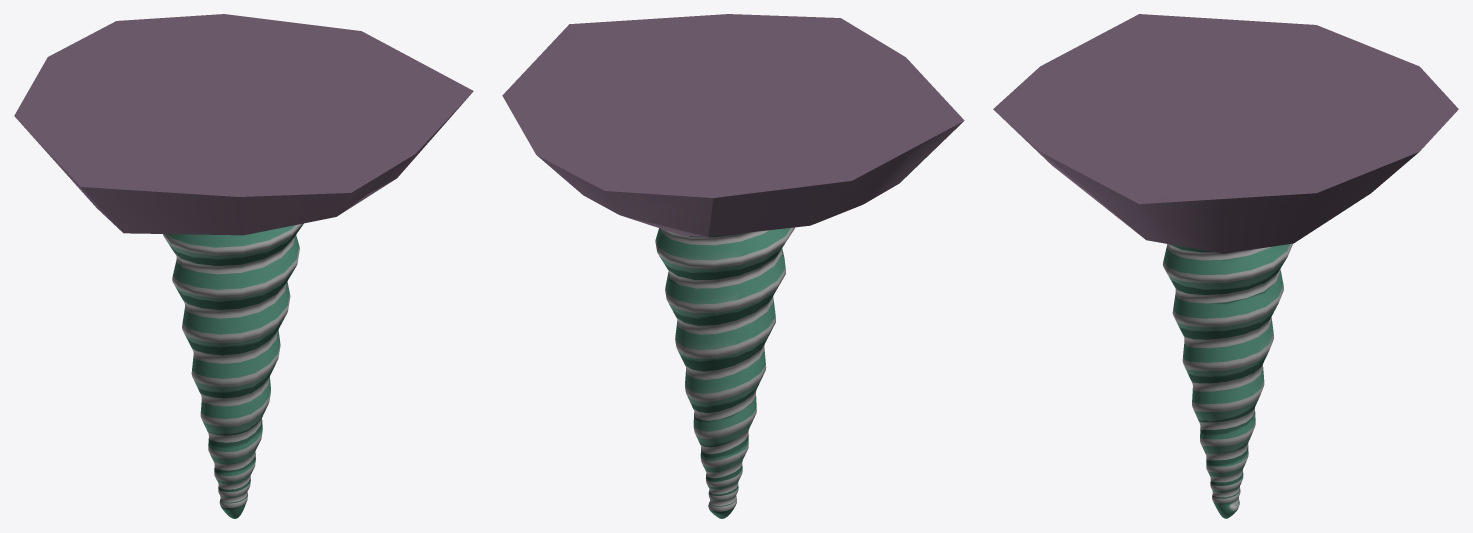
Rendered from m_environment2_stalagmite_2_je_4.fbx.
3 views of the same model, side by side, from view 1: azimuth 30°, elevation 25°; view 2: azimuth 150°, elevation 25°; view 3: azimuth 270°, elevation 25° (orthographic).
Parts seen in each view (by area): view 1: polySurface297; view 2: polySurface297; view 3: polySurface297.
Part boxes in pixels (left/top/right/bottom): polySurface297: left=14, top=14, right=473, bottom=518; polySurface297: left=502, top=14, right=964, bottom=518; polySurface297: left=993, top=14, right=1458, bottom=518.
Size of the model in its own units: 9.05 by 9.08 by 9.37.
